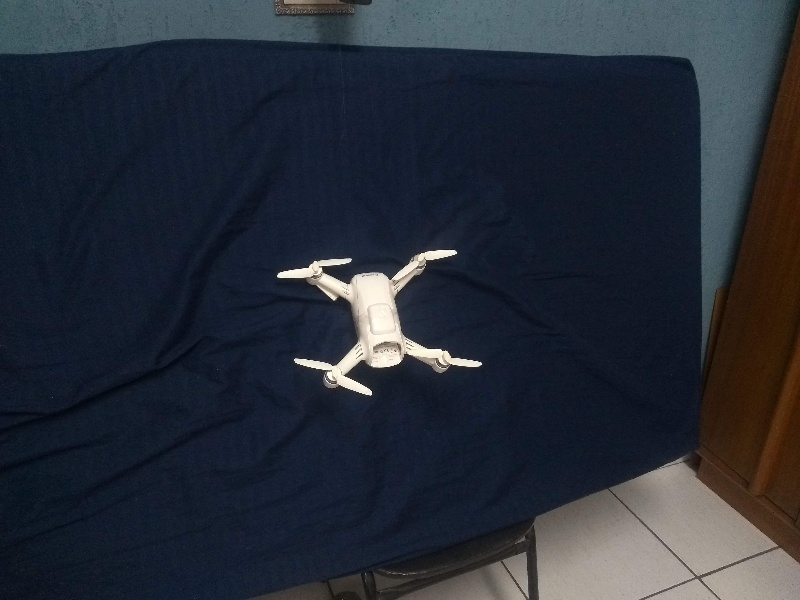drone: (279, 236, 483, 394)
